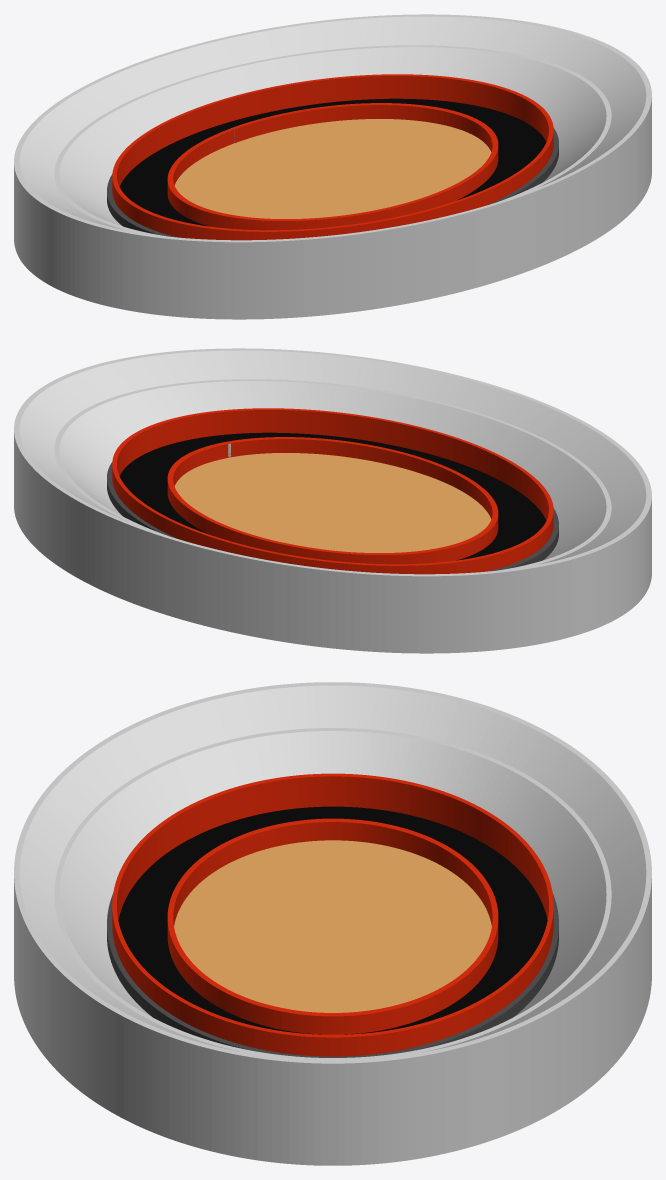
Rendered from race_track.fbx.
The picture shows the model from 3 angles, top to bottom: view 1: azimuth 30°, elevation 25°; view 2: azimuth 150°, elevation 25°; view 3: azimuth 270°, elevation 25°; orthographic projection. The views are drawn at different scales.
Parts seen in each view (by area): view 1: Cylinder; view 2: Cylinder; view 3: Cylinder.
Part boxes in pixels (x1,y1,x2,y2): Cylinder: (14, 14, 651, 319); Cylinder: (14, 348, 651, 653); Cylinder: (14, 682, 651, 1165).
Size of the model in its own units: 8868 by 1108 by 6269.
